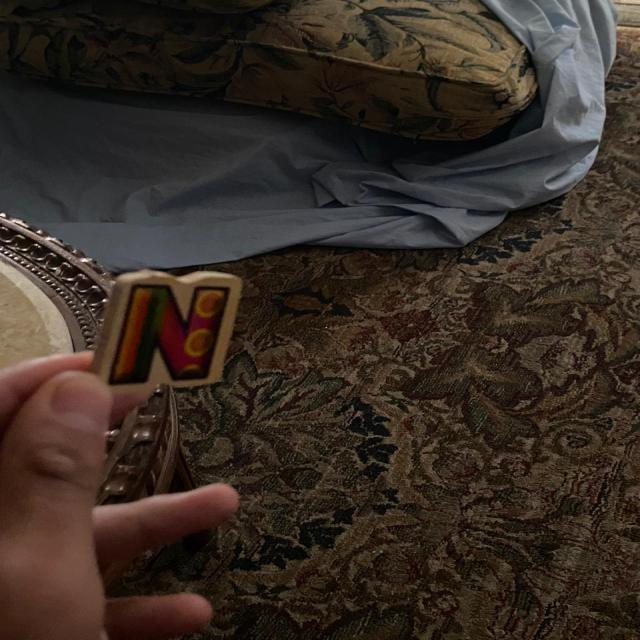N: (93, 270, 241, 392)
